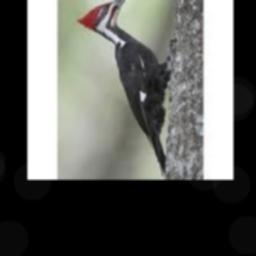Woodpecker: (76, 0, 171, 176)
